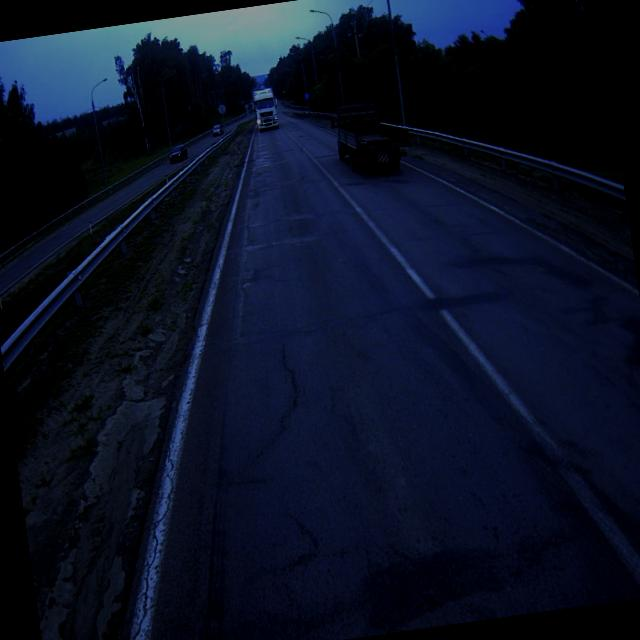road: (121, 108, 640, 640), (211, 135, 223, 139)
